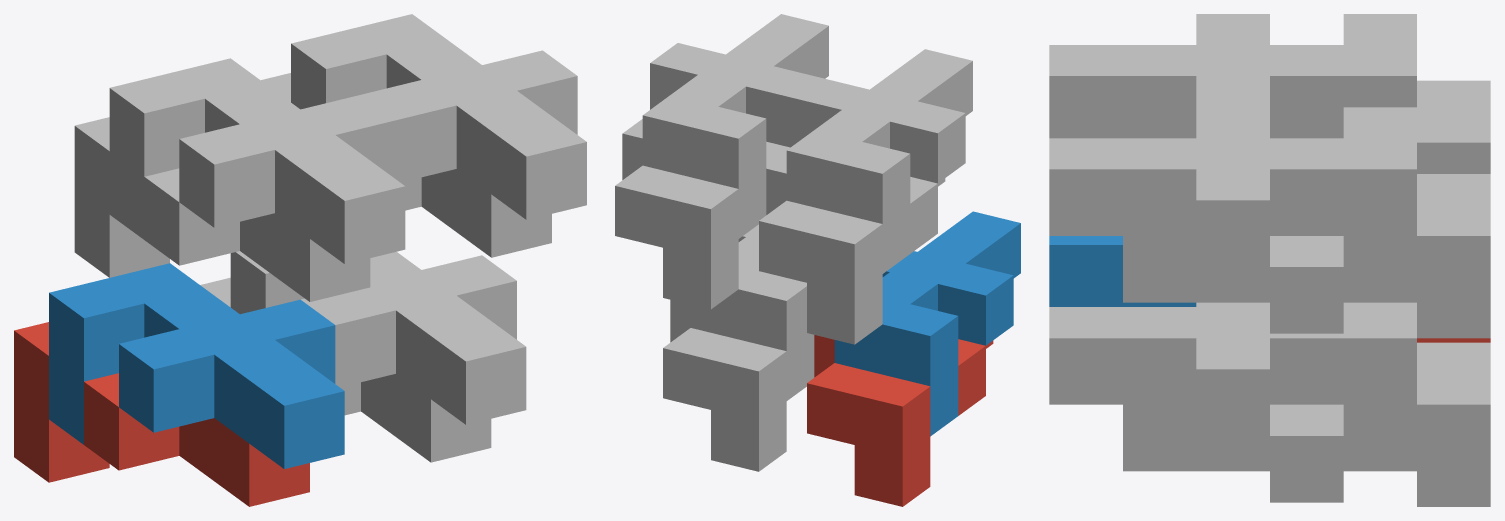
Rendered from tiling.obj.
3 views of the same model, side by side, from view 1: azimuth 30°, elevation 25°; view 2: azimuth 150°, elevation 25°; view 3: azimuth 270°, elevation 25° (orthographic). The views are drawn at different scales.
Parts seen in each view (by area): view 1: copy_1_domain_4, copy_1_domain_2, copy_1_domain_8, copy_1_domain_6, copy_1_domain_3, copy_1_domain_1, copy_1_domain_5, copy_1_domain_7; view 2: copy_1_domain_4, copy_1_domain_8, copy_1_domain_2, copy_1_domain_3, copy_1_domain_1, copy_1_domain_7, copy_1_domain_5, copy_1_domain_6; view 3: copy_1_domain_8, copy_1_domain_6, copy_1_domain_4, copy_1_domain_5, copy_1_domain_7, copy_1_domain_3, copy_1_domain_2.
Part boxes in pixels (x1,y1,x2,y2): copy_1_domain_4: (109,58,405,264); copy_1_domain_2: (49,263,344,468); copy_1_domain_8: (291,14,586,219); copy_1_domain_6: (230,251,526,424); copy_1_domain_3: (74,117,370,301); copy_1_domain_1: (14,322,309,506); copy_1_domain_5: (200,277,491,462); copy_1_domain_7: (261,73,551,257); copy_1_domain_4: (786,49,972,273); copy_1_domain_8: (642,14,828,238); copy_1_domain_2: (834,211,1020,436); copy_1_domain_3: (759,154,945,344); copy_1_domain_1: (807,335,993,506); copy_1_domain_7: (615,119,790,309); copy_1_domain_5: (663,299,786,471); copy_1_domain_6: (690,224,814,400); copy_1_domain_8: (1049,107,1416,266); copy_1_domain_6: (1049,302,1416,435); copy_1_domain_4: (1049,14,1416,138); copy_1_domain_5: (1123,342,1490,506); copy_1_domain_7: (1123,174,1490,338); copy_1_domain_3: (1417,80,1490,173); copy_1_domain_2: (1049,236,1196,306).
Size of the model in its own units: 7 by 6 by 6.
